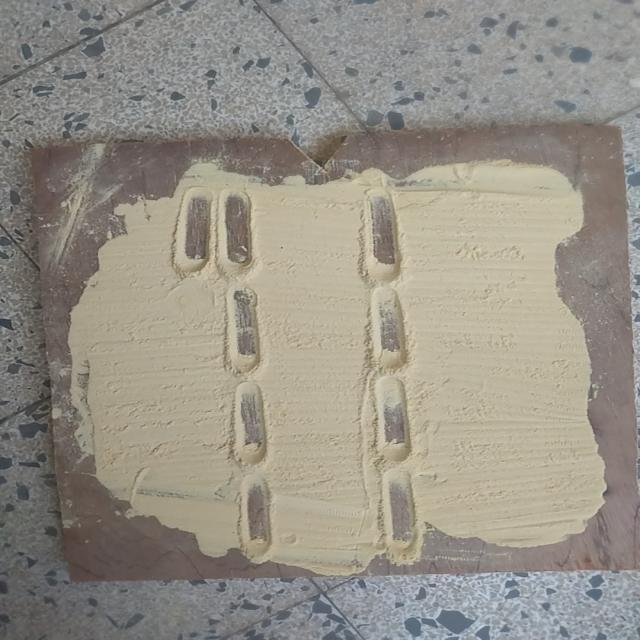double: (168, 181, 264, 283)
single: (356, 185, 412, 286), (365, 374, 424, 468), (374, 468, 429, 567), (218, 276, 270, 378), (224, 376, 274, 472), (364, 284, 416, 374), (236, 472, 282, 566)
